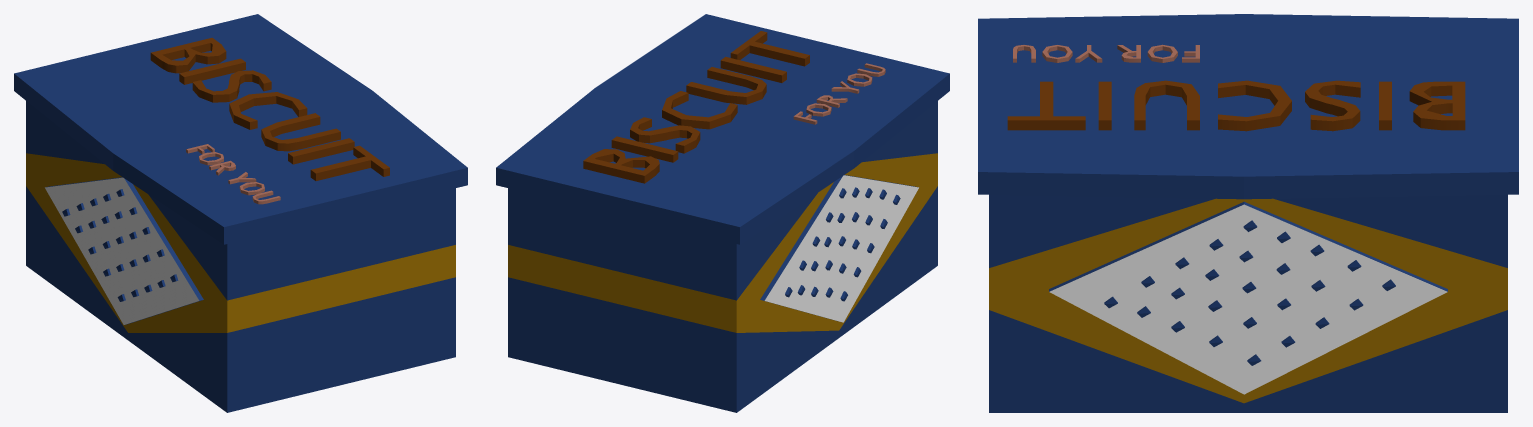
3 views of the same model, side by side, from view 1: azimuth 30°, elevation 25°; view 2: azimuth 150°, elevation 25°; view 3: azimuth 270°, elevation 25° (orthographic). The views are drawn at different scales.
Parts seen in each view (by area): view 1: SM_biscuit_box_yecan_blue_0; view 2: SM_biscuit_box_yecan_blue_0; view 3: SM_biscuit_box_yecan_blue_0.
Boxes of the visible parts, bbox=[...] form: SM_biscuit_box_yecan_blue_0: bbox=[14, 14, 467, 412]; SM_biscuit_box_yecan_blue_0: bbox=[496, 14, 949, 412]; SM_biscuit_box_yecan_blue_0: bbox=[978, 14, 1518, 412].
Bounding box in the file's own units: 78.43 × 57.48 × 110.
Materials: 5 (5 with a texture image).
